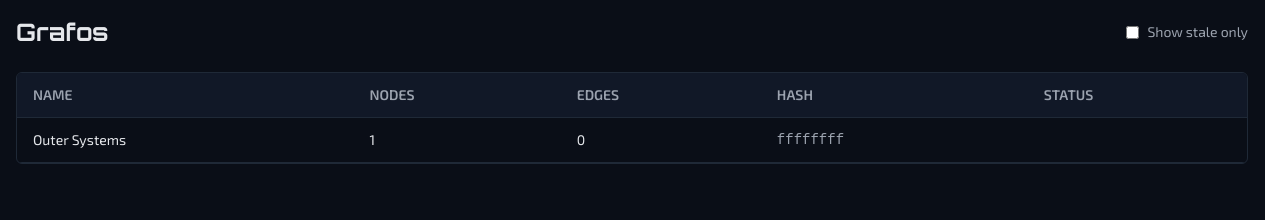
Test: GraphListPage › stale filter shows empty state when no stale graphs
Expected: the heading "Grafos" is shown, [16, 16, 108, 48]
Click the checkbox labelled "Show stale only" at (1133,32), box [1126, 26, 1139, 38]
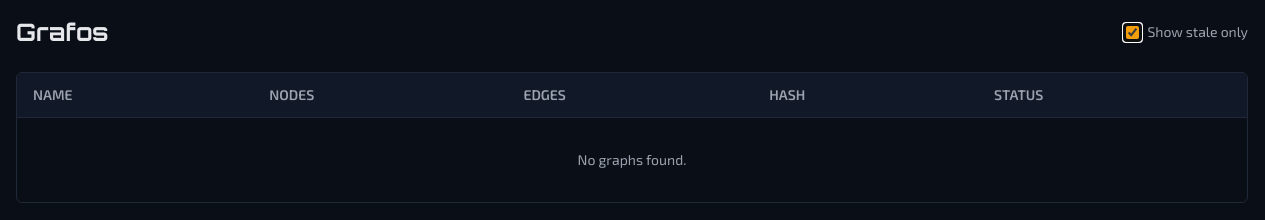
Now the text "No graphs found." is shown, box [17, 118, 1247, 202]
